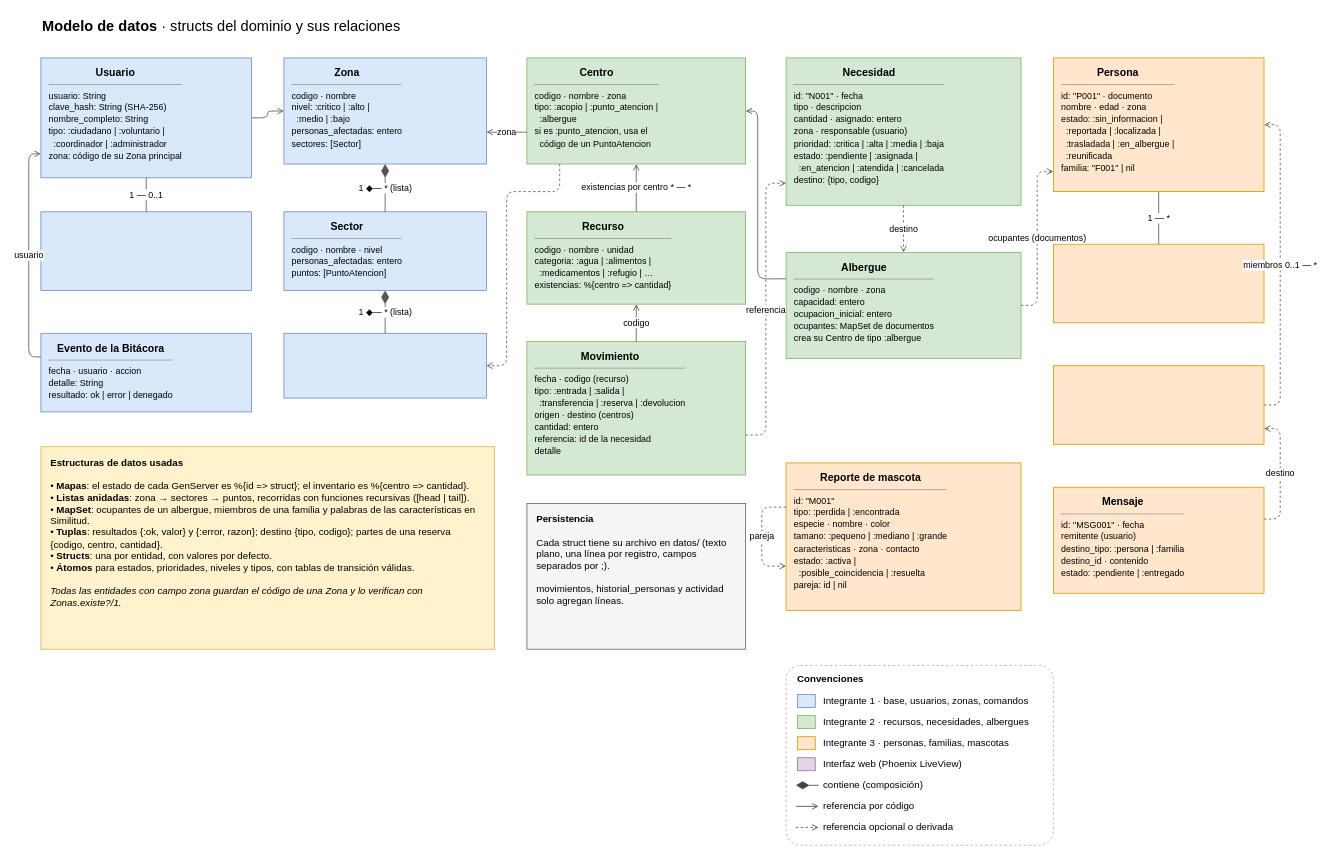
The diagram is 1331 pixels wide and 859 high, and some of its shapes have lost their labels. Each missing label, with the centre of its shape:
Entrada de historial fecha · documento anterior → nuevo (estados) detalle: (x=1158, y=283)
Familia codigo: "F001" · nombre zona miembros: MapSet de documentos: (x=1158, y=404)
PuntoAtencion codigo · nombre personas_afectadas: entero: (x=384, y=365)
Sesión (Agent) usuario · nombre_completo tipo · zona conectado_desde: fecha: (x=146, y=250)
